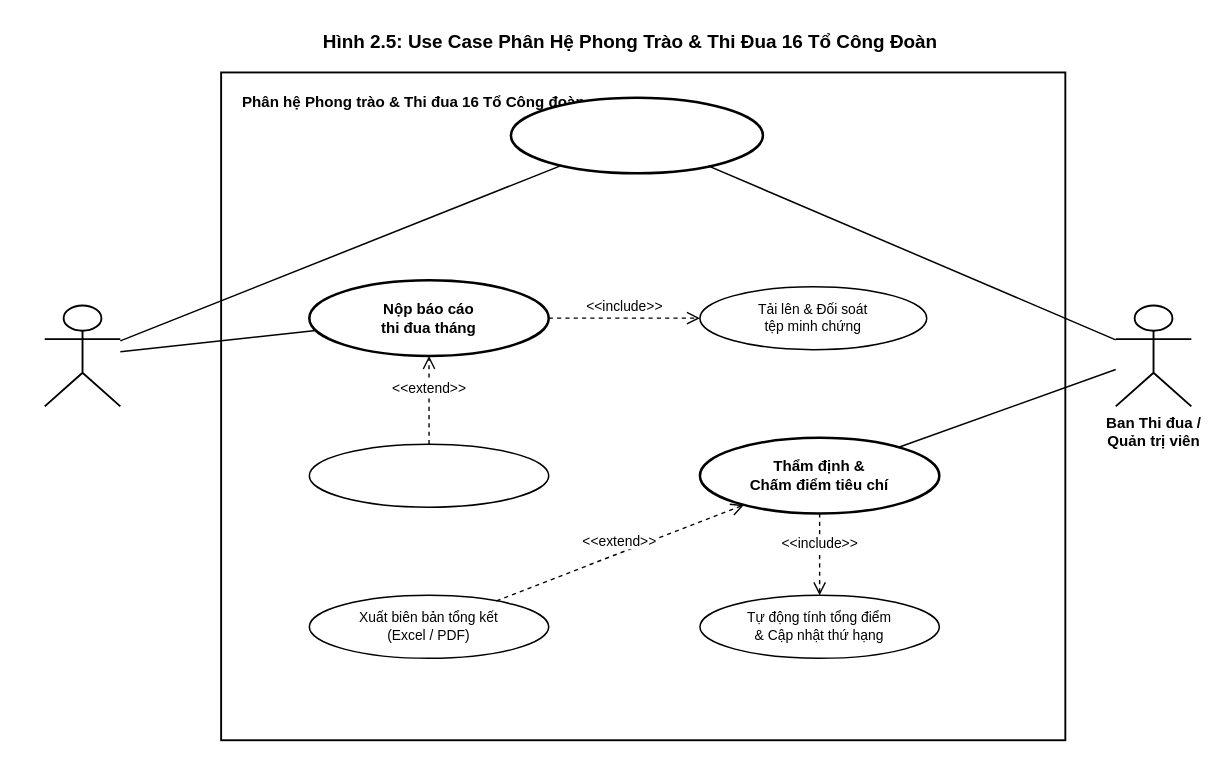
This 1223x762 diagram has some shape labels left out. Each missing label, with the centre of its shape:
Lưu tạm bản thảo trước hạn nộp: (428,475)
Tra cứu lịch sử & Bảng xếp hạng 16 Tổ: (636,135)
Đại diện 16 Tổ Công đoàn: (82,355)
